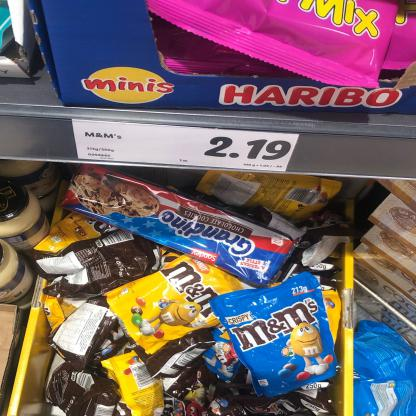prtg: (73, 120, 300, 173)
